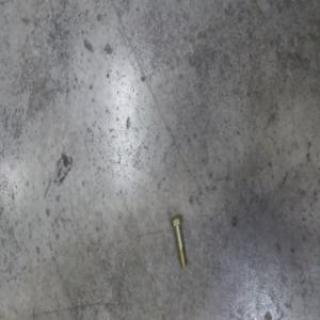Bolttrack_idkeyframe: (167, 212, 186, 268)
